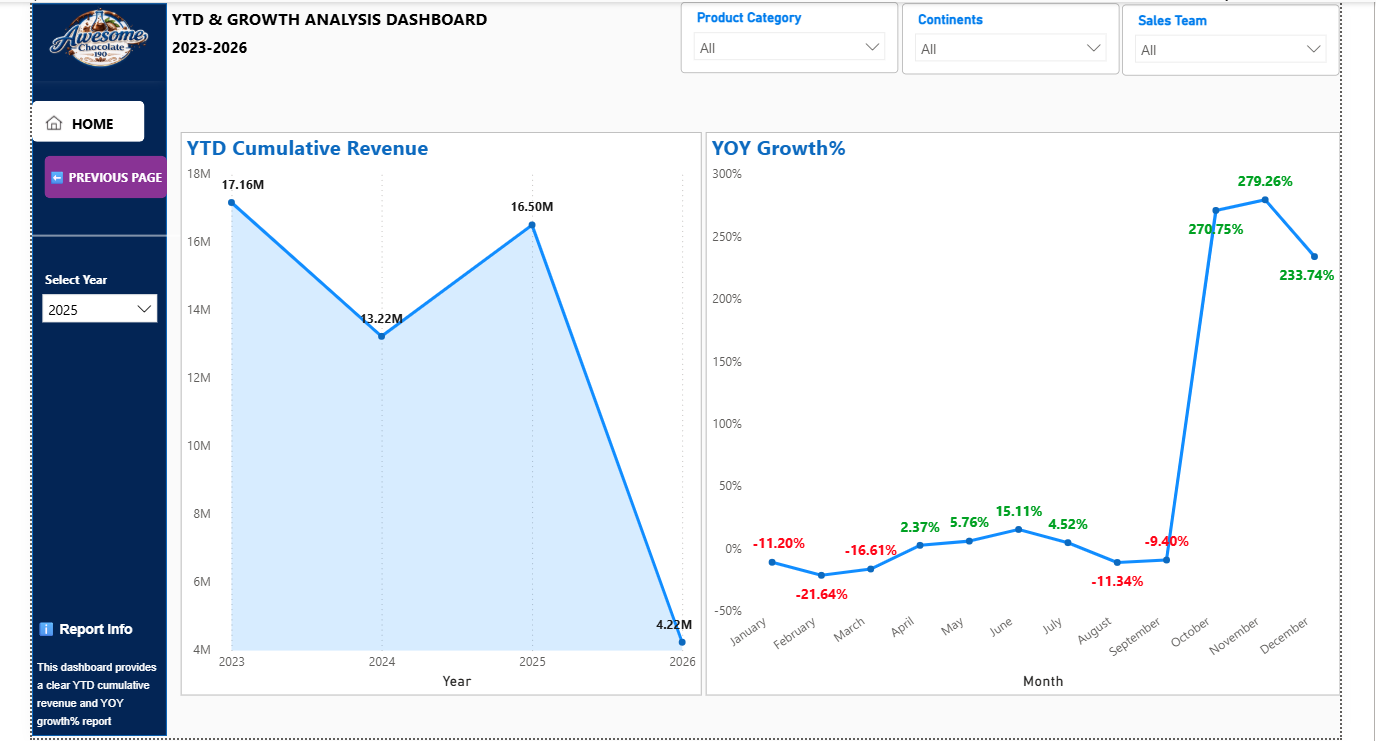

This screenshot's page, from the dashboard's own definition file:
{"tool":"powerbi","page":{"name":"📆YTD & GROWTH% REPORT","canvas":[1280,720],"ordinal":6},"visuals":[{"type":"shape","box":[0,1,132,717],"z":0},{"type":"image","box":[0,0,132,77],"z":1000},{"type":"textbox","box":[132.1,0,428,48.9],"z":2000},{"type":"slicer","fields":{"Values":["Product_Table.Category"]},"box":[634.7,0,212.8,69.7],"z":3000},{"type":"textbox","box":[132,29,116,32],"z":4000},{"type":"slicer","fields":{"Values":["Date_Table.Date.Variation.Date Hierarchy.Year"]},"box":[0,258,132,70],"z":5000},{"type":"textbox","box":[0,599.2,132.1,121.1],"z":6000},{"type":"slicer","fields":{"Values":["Geography_Table.Continent"]},"box":[851.1,1.2,212.8,69.7],"z":7000},{"type":"slicer","fields":{"Values":["SalesPerson_Table.Team"]},"box":[1066.3,2.4,212.8,69.7],"z":8000},{"type":"actionButton","box":[12.2,150.4,119.8,41.6],"z":9000},{"type":"shape","box":[0,223,154,12],"z":10000},{"type":"lineChart","title":"Yearly Revenue Comparison","fields":{"Category":["Date_Table.Date.Variation.Date Hierarchy.Year","Date_Table.Date.Variation.Date Hierarchy.Quarter"],"Y":["6 Time Intelligence Measures.TotalYTD"]},"box":[145.5,127.2,509.9,551.5],"z":11000},{"type":"lineChart","title":"YOY Growth%","fields":{"Category":["Date_Table.Date.Variation.Date Hierarchy.Year","Date_Table.Date.Variation.Date Hierarchy.Quarter","Date_Table.Date.Variation.Date Hierarchy.Month"],"Y":["6 Time Intelligence Measures.YOYGrowth%"]},"box":[659.1,127.2,621.2,551.5],"z":12000},{"type":"actionButton","box":[0,96.6,110.1,40.4],"z":13000}]}

Visuals, with their boxes on the page's 1280x720 design canvas (x1, y1, x2, y2). These are canvas units, not pixel positions in the 1376x741 screenshot, which may show the page scaled, cropped or inside an application window:
shape: select_region(0, 1, 132, 718)
image: select_region(0, 0, 132, 77)
textbox: select_region(132, 0, 560, 49)
slicer - Product_Table.Category: select_region(635, 0, 848, 70)
textbox: select_region(132, 29, 248, 61)
slicer - Date_Table.Date.Variation.Date Hierarchy.Year: select_region(0, 258, 132, 328)
textbox: select_region(0, 599, 132, 720)
slicer - Geography_Table.Continent: select_region(851, 1, 1064, 71)
slicer - SalesPerson_Table.Team: select_region(1066, 2, 1279, 72)
actionButton: select_region(12, 150, 132, 192)
shape: select_region(0, 223, 154, 235)
"Yearly Revenue Comparison" lineChart: select_region(146, 127, 655, 679)
"YOY Growth%" lineChart: select_region(659, 127, 1280, 679)
actionButton: select_region(0, 97, 110, 137)
